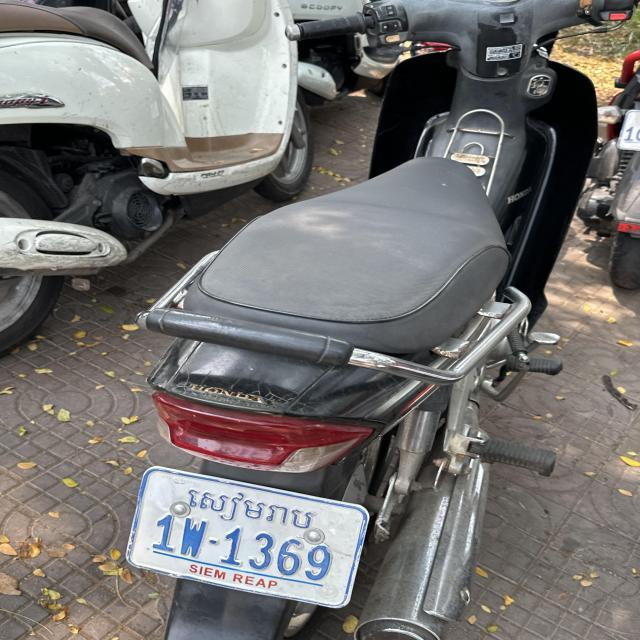Siem_Reap: (185, 488, 314, 528)
